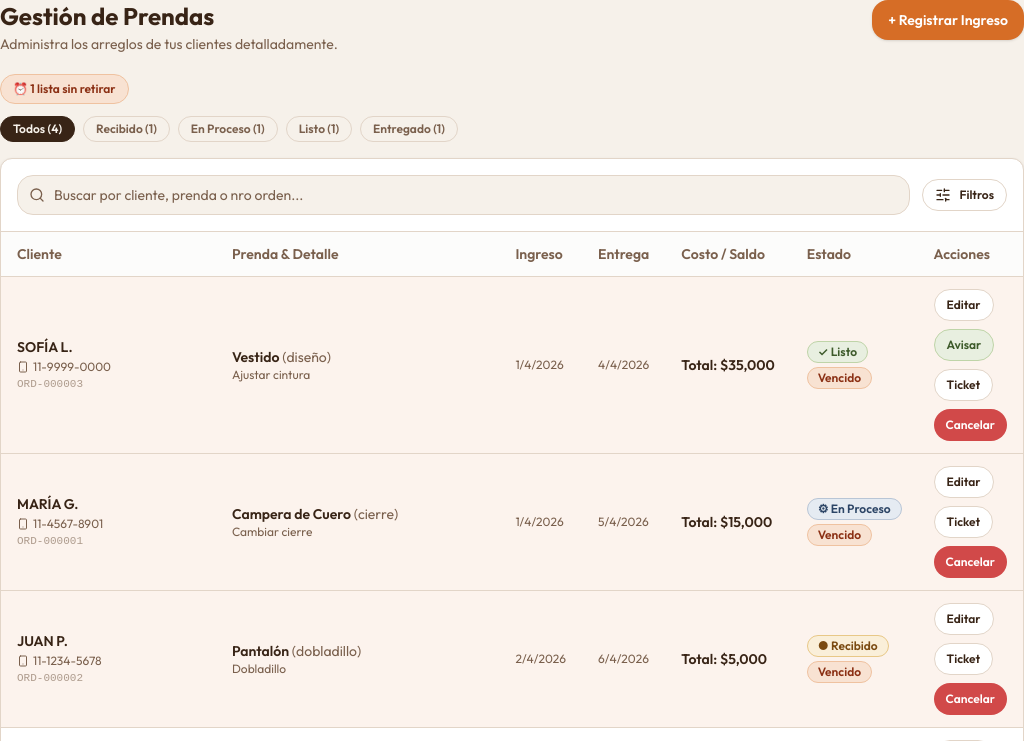
Test: Garments page › create modal switches to new client mode with name/phone fields
expect the text "Campera de Cuero (cierre)" is shown: met, box [232,505,398,523]
Step 1. Click the button "+ Registrar Ingreso" → (948, 20), box [872,0,1023,40]
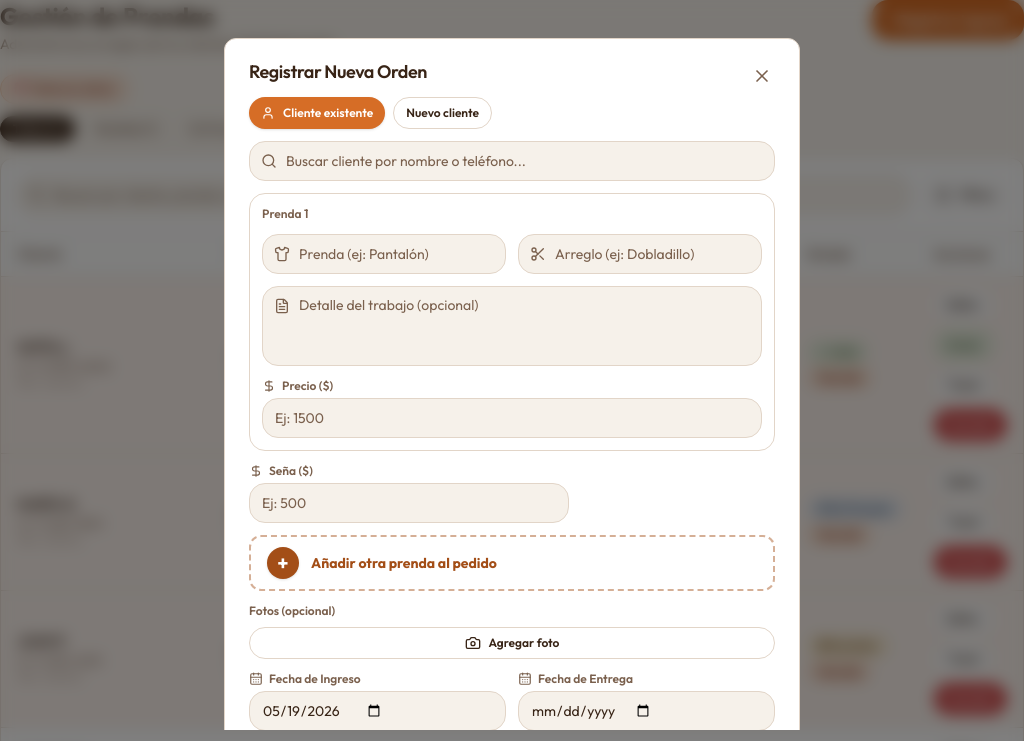
Step 2. Click the button "Nuevo cliente" → (443, 113), box [393,97,492,129]
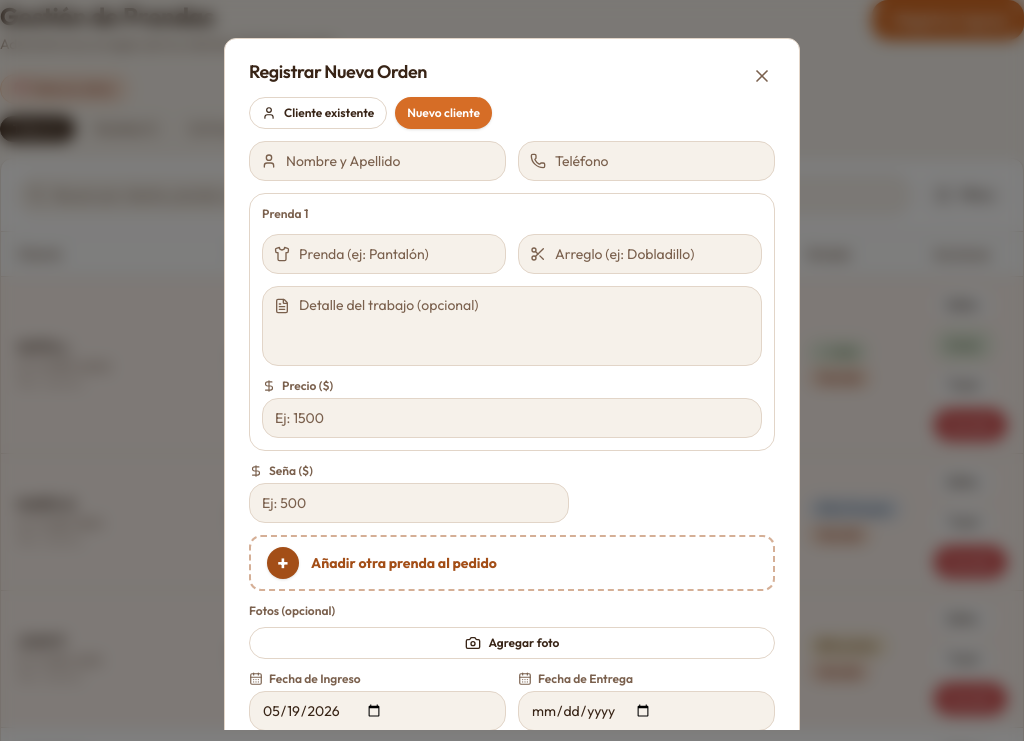
expect the field with placeholder "Nombre y Apellido" is shown: met, box [249,141,506,181]
expect the field with placeholder "Teléfono" is shown: met, box [518,141,775,181]
